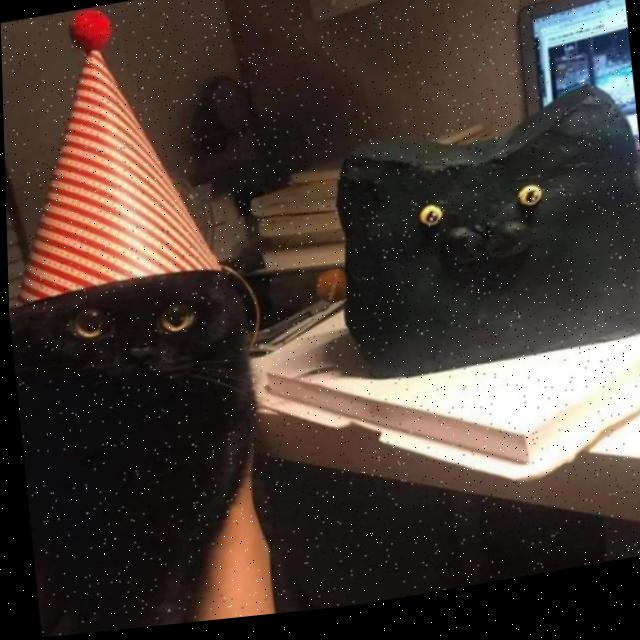Cats: (6, 252, 288, 640)
